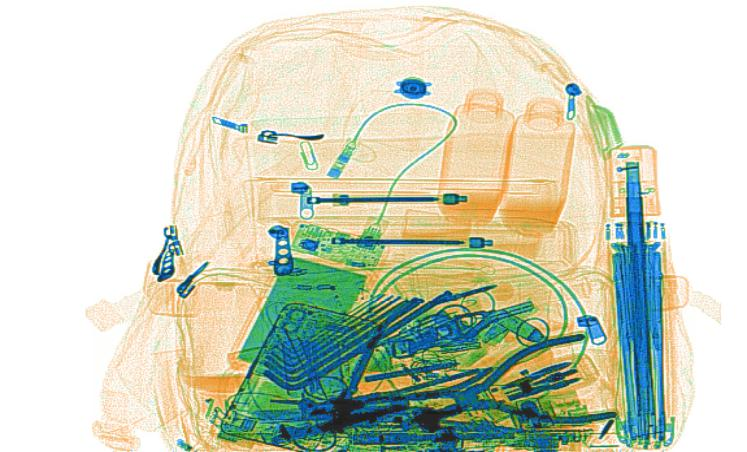battery: (350, 430, 417, 446)
